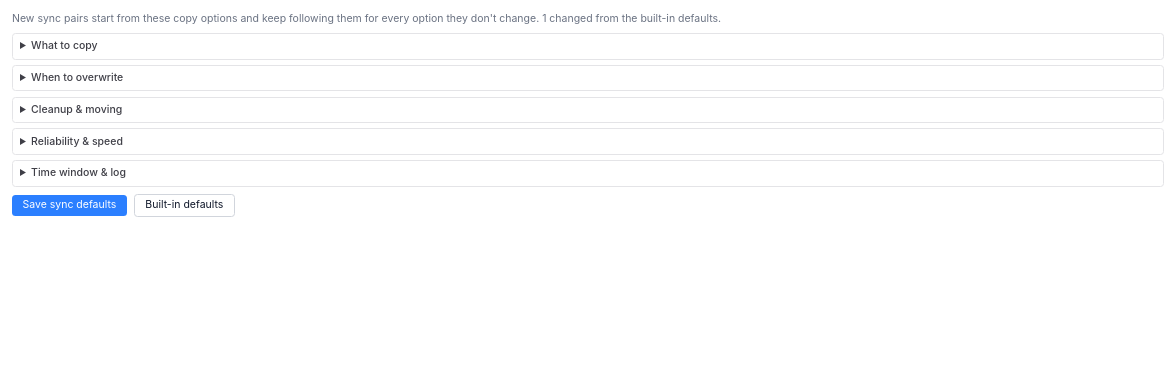
Test: Settings: sync defaults and bandwidth timetable › edits and saves the global sync defaults
This screenshot has width=1176, height=375.
Expected: the element with test id "sync-defaults" is shown, x1=12 y1=12 x2=1164 y2=216
Click the heading "Reliability & speed".
click(77, 141)  # box x1=31 y1=134 x2=123 y2=148
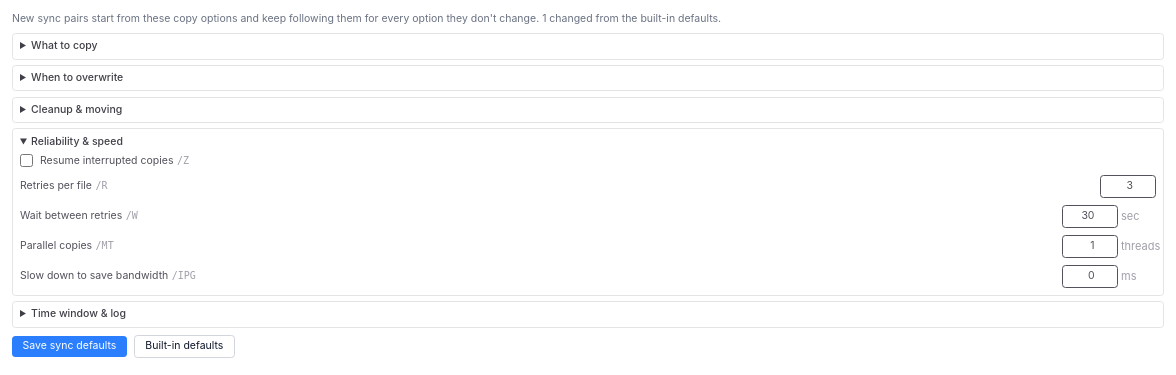
Click the button "Save sync defaults".
click(69, 346)  # box x1=12 y1=336 x2=127 y2=356
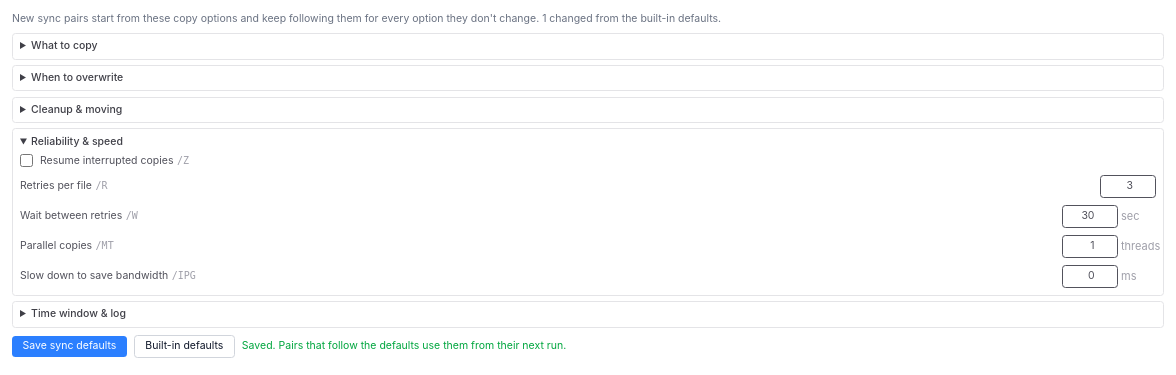
Now the text "Saved." is shown, box x1=242 y1=339 x2=566 y2=352
